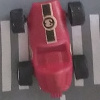rojo: (10, 2, 87, 96)
